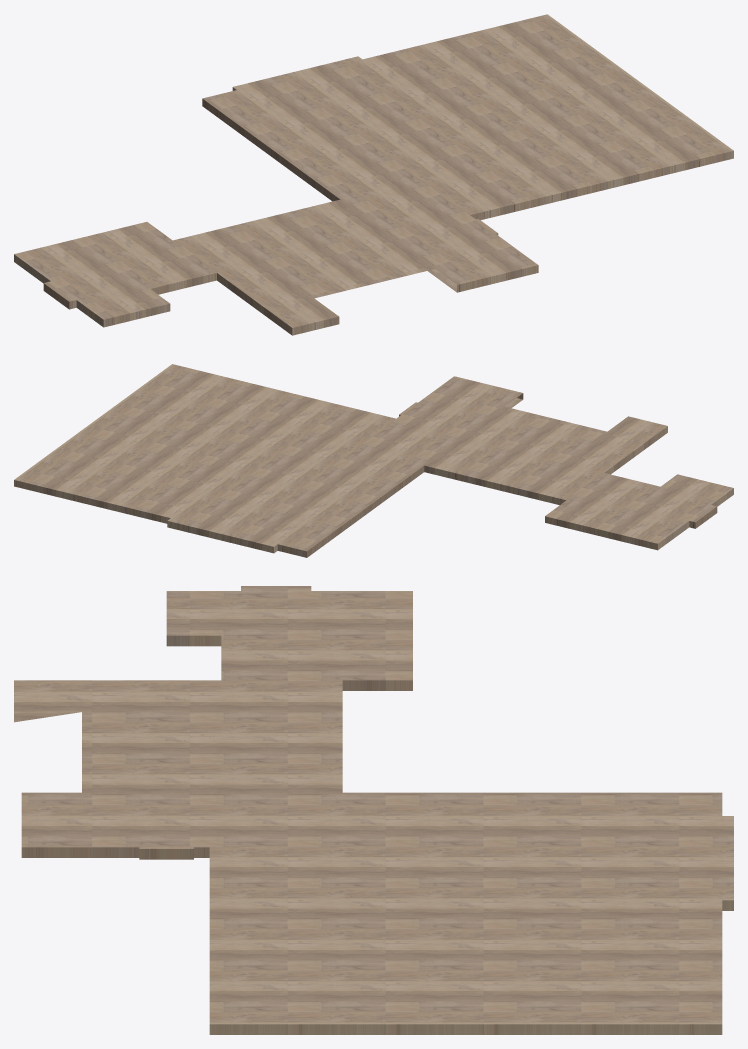
File: Floor_RivergroveValorOak.glb
3 renders of one model, top to bottom at view 1: azimuth 30°, elevation 25°; view 2: azimuth 150°, elevation 25°; view 3: azimuth 270°, elevation 25°, orthographic. The views are drawn at different scales.
Visible parts, largest first — view 1: Floor_Rivergrove Valor Oak; view 2: Floor_Rivergrove Valor Oak; view 3: Floor_Rivergrove Valor Oak.
Part boxes in pixels (x1,y1,x2,y2): Floor_Rivergrove Valor Oak: [14, 14, 733, 335]; Floor_Rivergrove Valor Oak: [14, 364, 733, 557]; Floor_Rivergrove Valor Oak: [14, 586, 733, 1034].
Bounding box in the file's own units: 26.5 × 0.3 × 18.4.
1 material, 1 textured.
